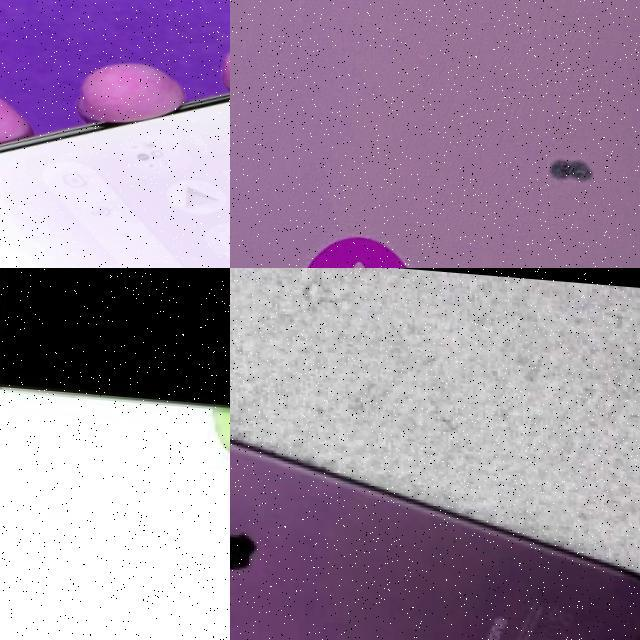dead pixel: (506, 80, 625, 255)
